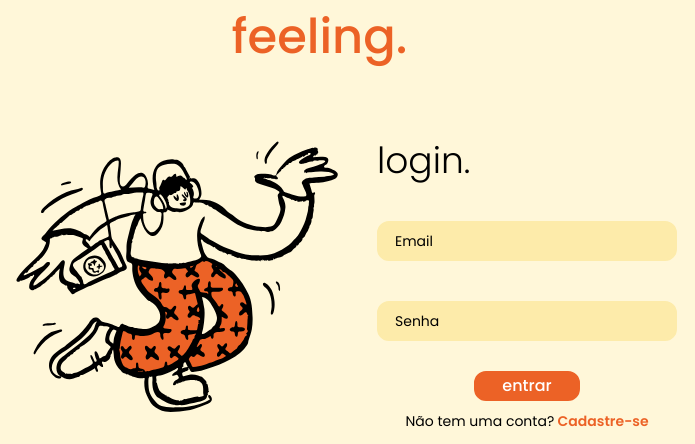
it: Navigation first page, signIn and SignUp › Try to signIn page with invalid Email and passwords
In the field with placeholder "Email": coordinates (527, 241) left=377, top=221, right=677, bottom=261, type "Daniel"
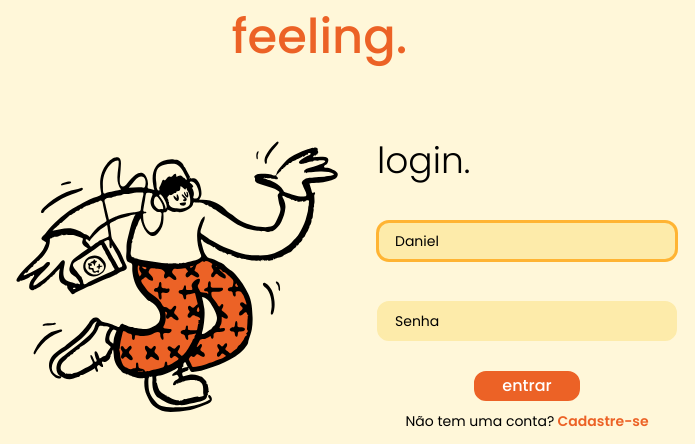
Click the button "entrar": coordinates (527, 386) left=474, top=371, right=579, bottom=401
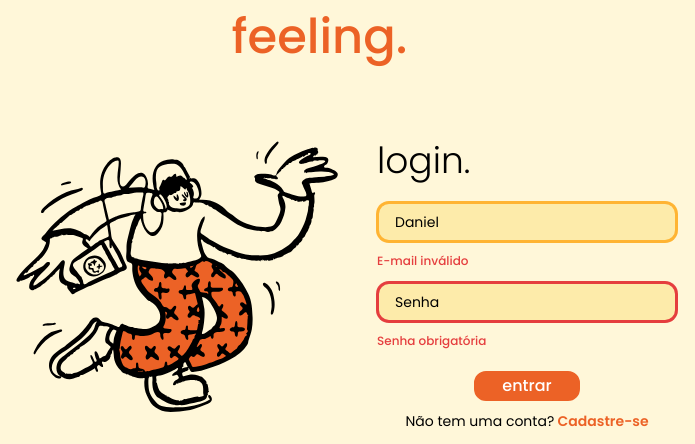
Now the text "E-mail inválido" is shown, box left=377, top=252, right=468, bottom=269
Now the text "Senha obrigatória" is shown, box left=377, top=332, right=486, bottom=349
